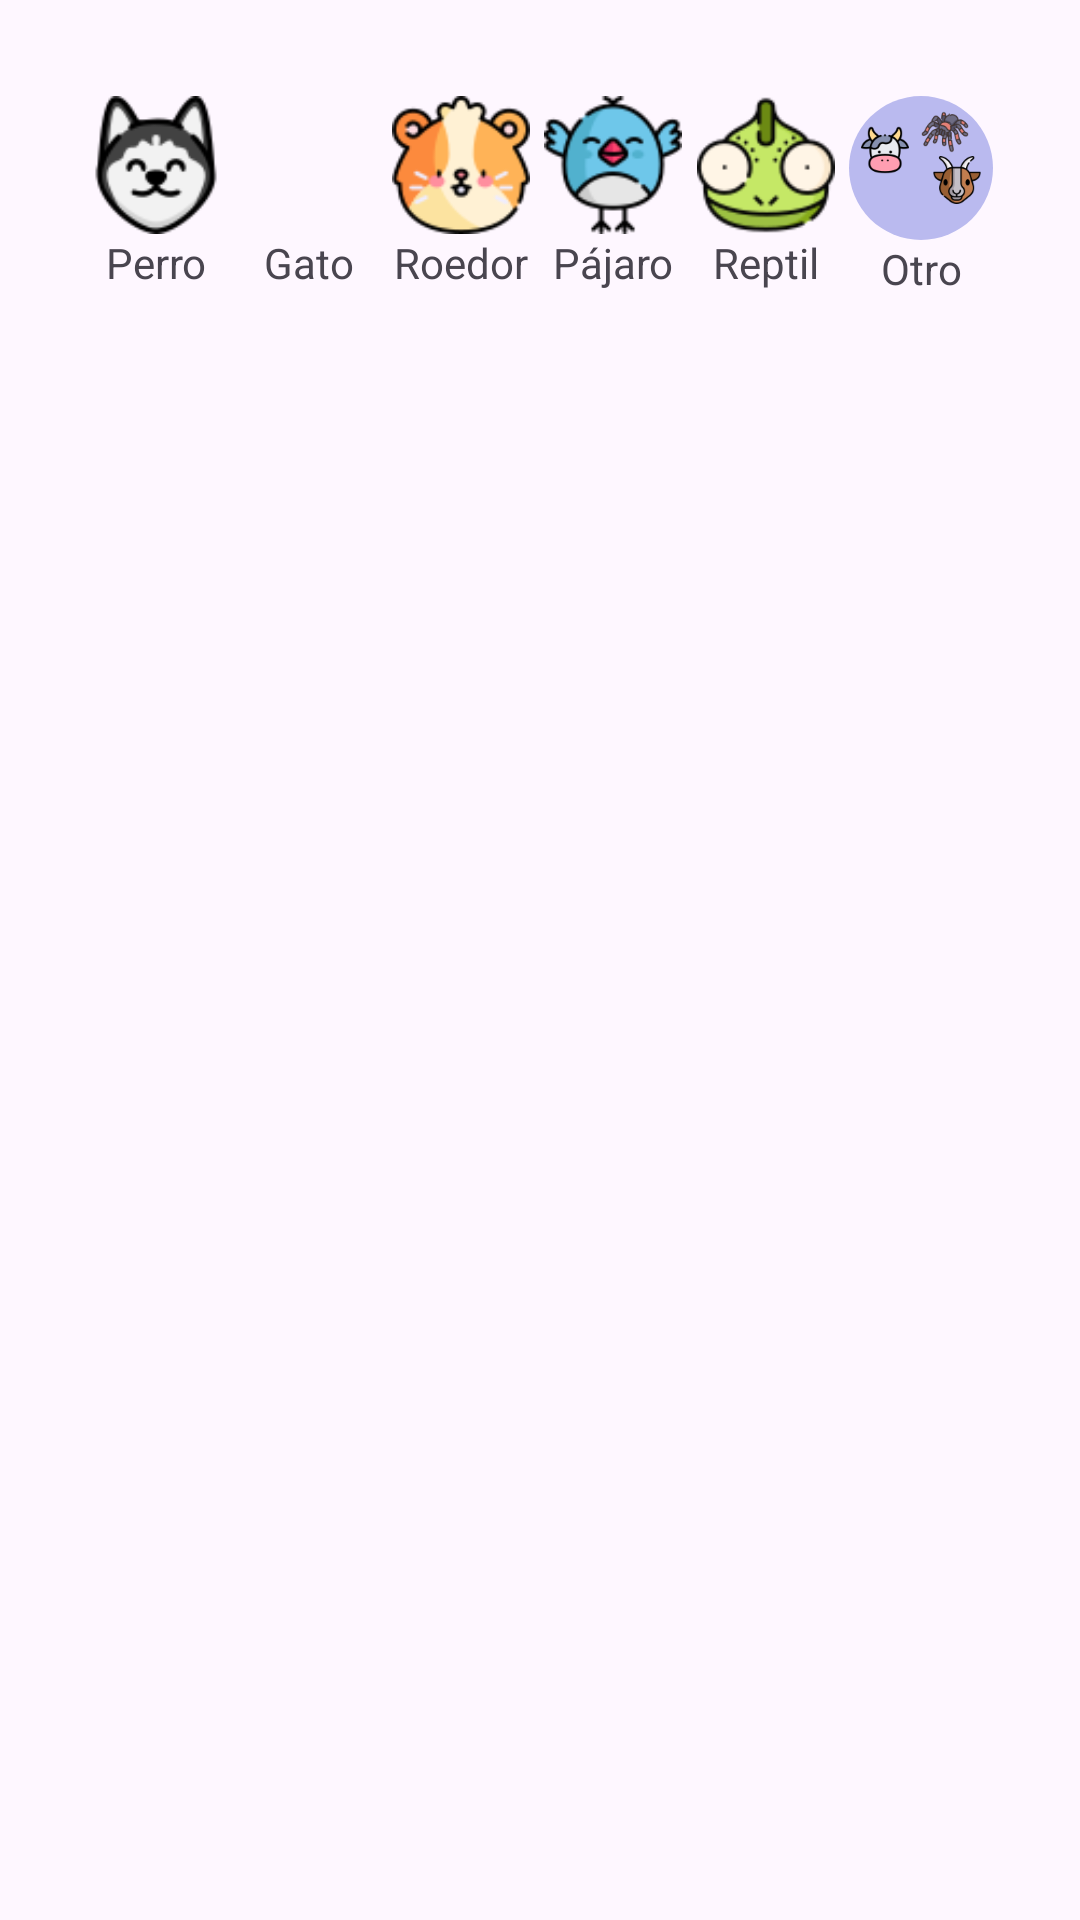

Icons on this 1080 × 1920 Android screen, each with its box as bbox=[x1, y1, x2, y2]:
chameleon: bbox=[697, 97, 835, 233]
